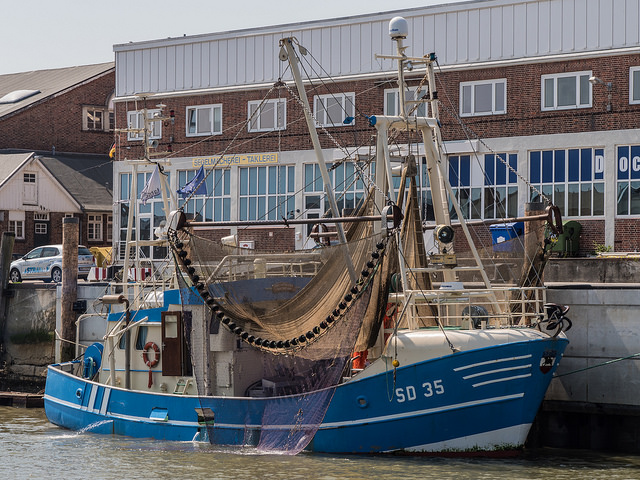fishing_boat: (42, 40, 576, 457)
